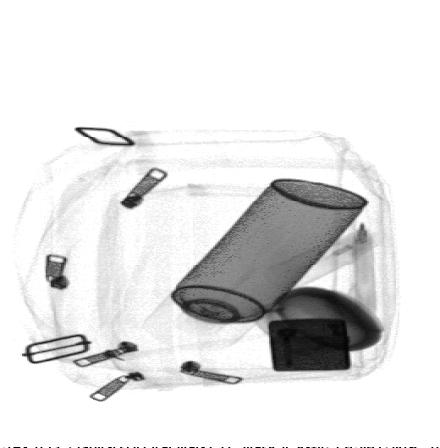Lighter: (269, 318, 352, 371)
Sprayer: (143, 179, 369, 353)
